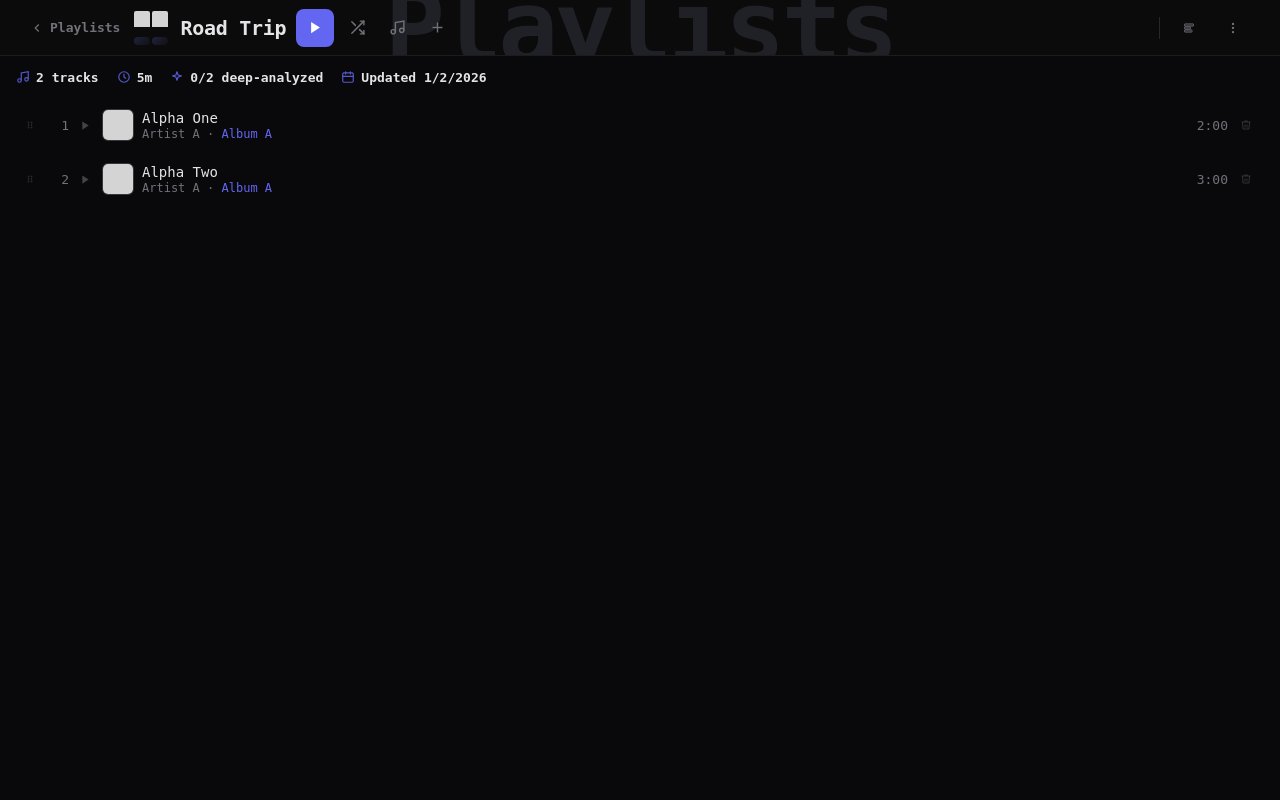
Test: PlaylistsView integration flows › leaves remember position unchanged when saving fails
Expected: the text "Alpha One" is shown, [142, 110, 218, 126]
What coordinates should you click on to do the following:
click the button named "More actions"
I would click on:
 (1233, 28)
Its box is [1214, 8, 1252, 46].
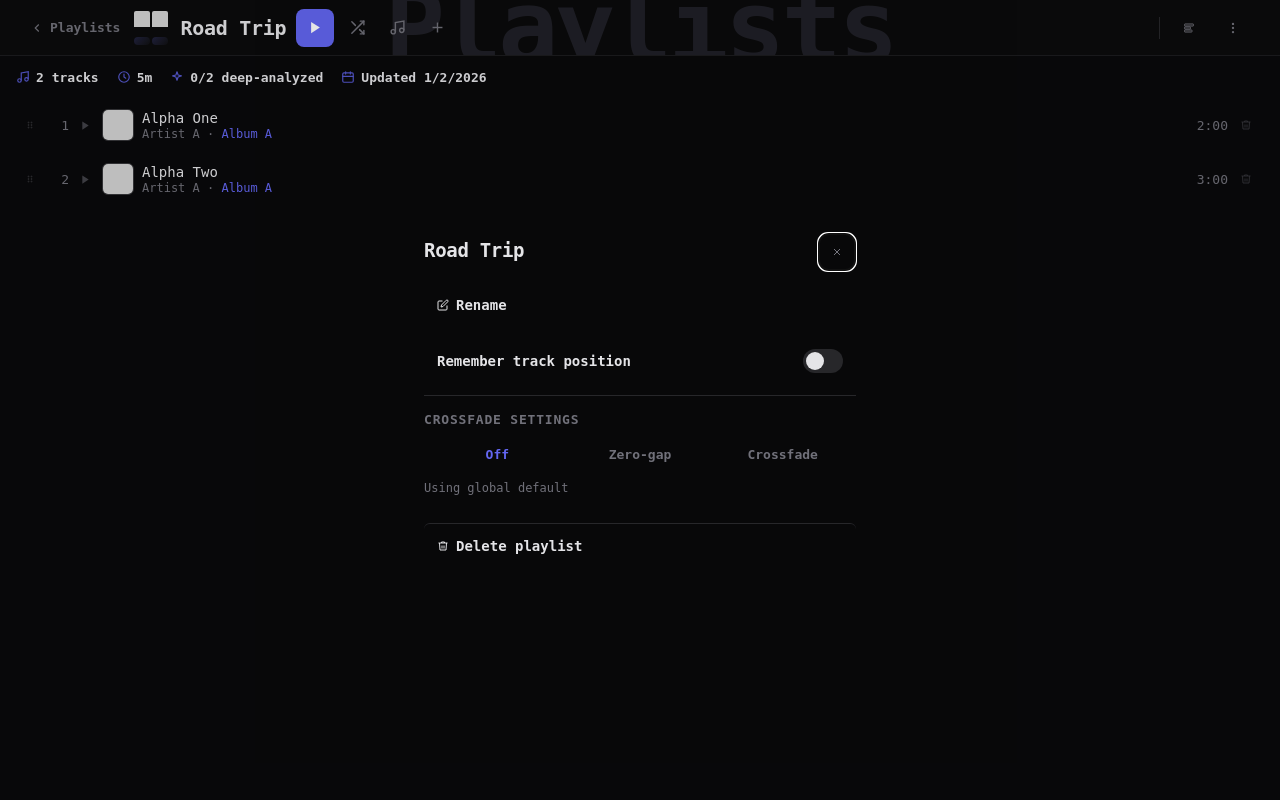
What coordinates should you click on to do the following:
click the switch labelled "Remember track position"
I would click on:
 (534, 361)
Its box is [424, 339, 856, 383].
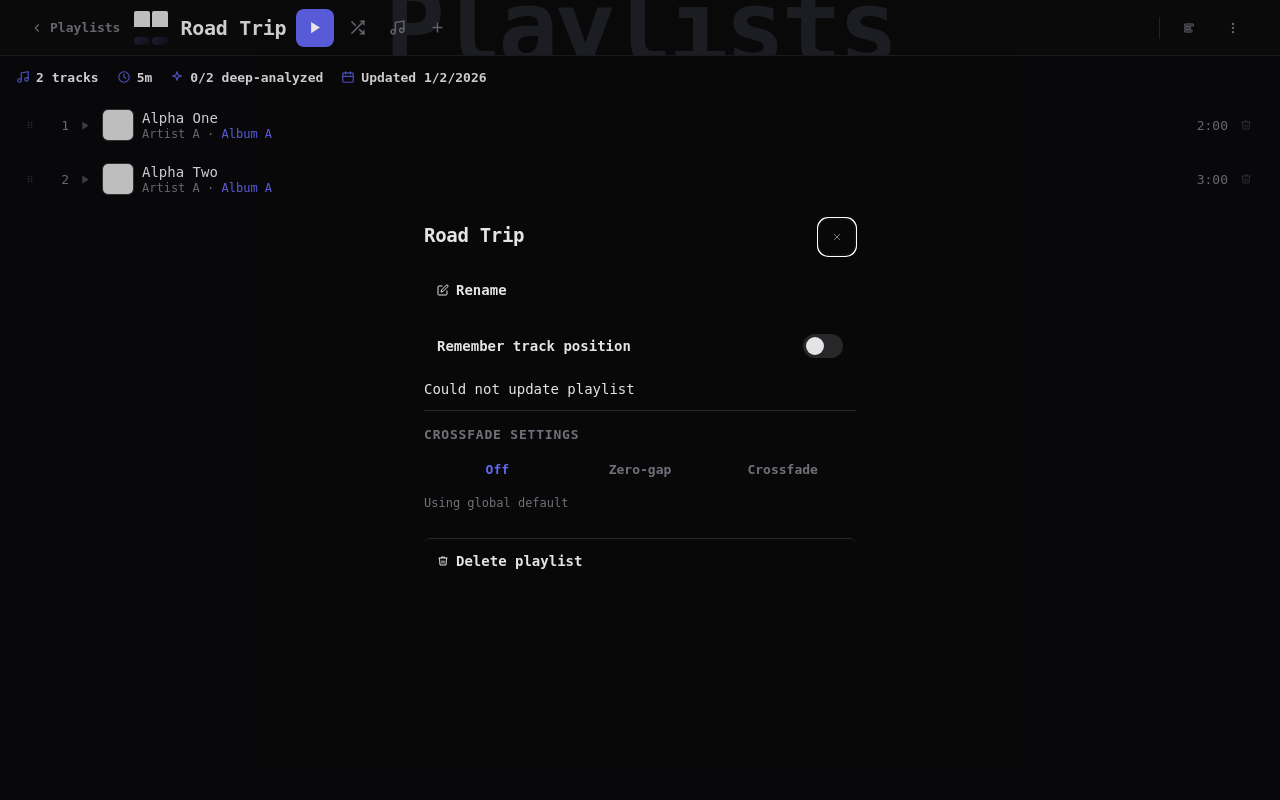
Expected: the message reads "Could not update playlist", [424, 381, 635, 397]
